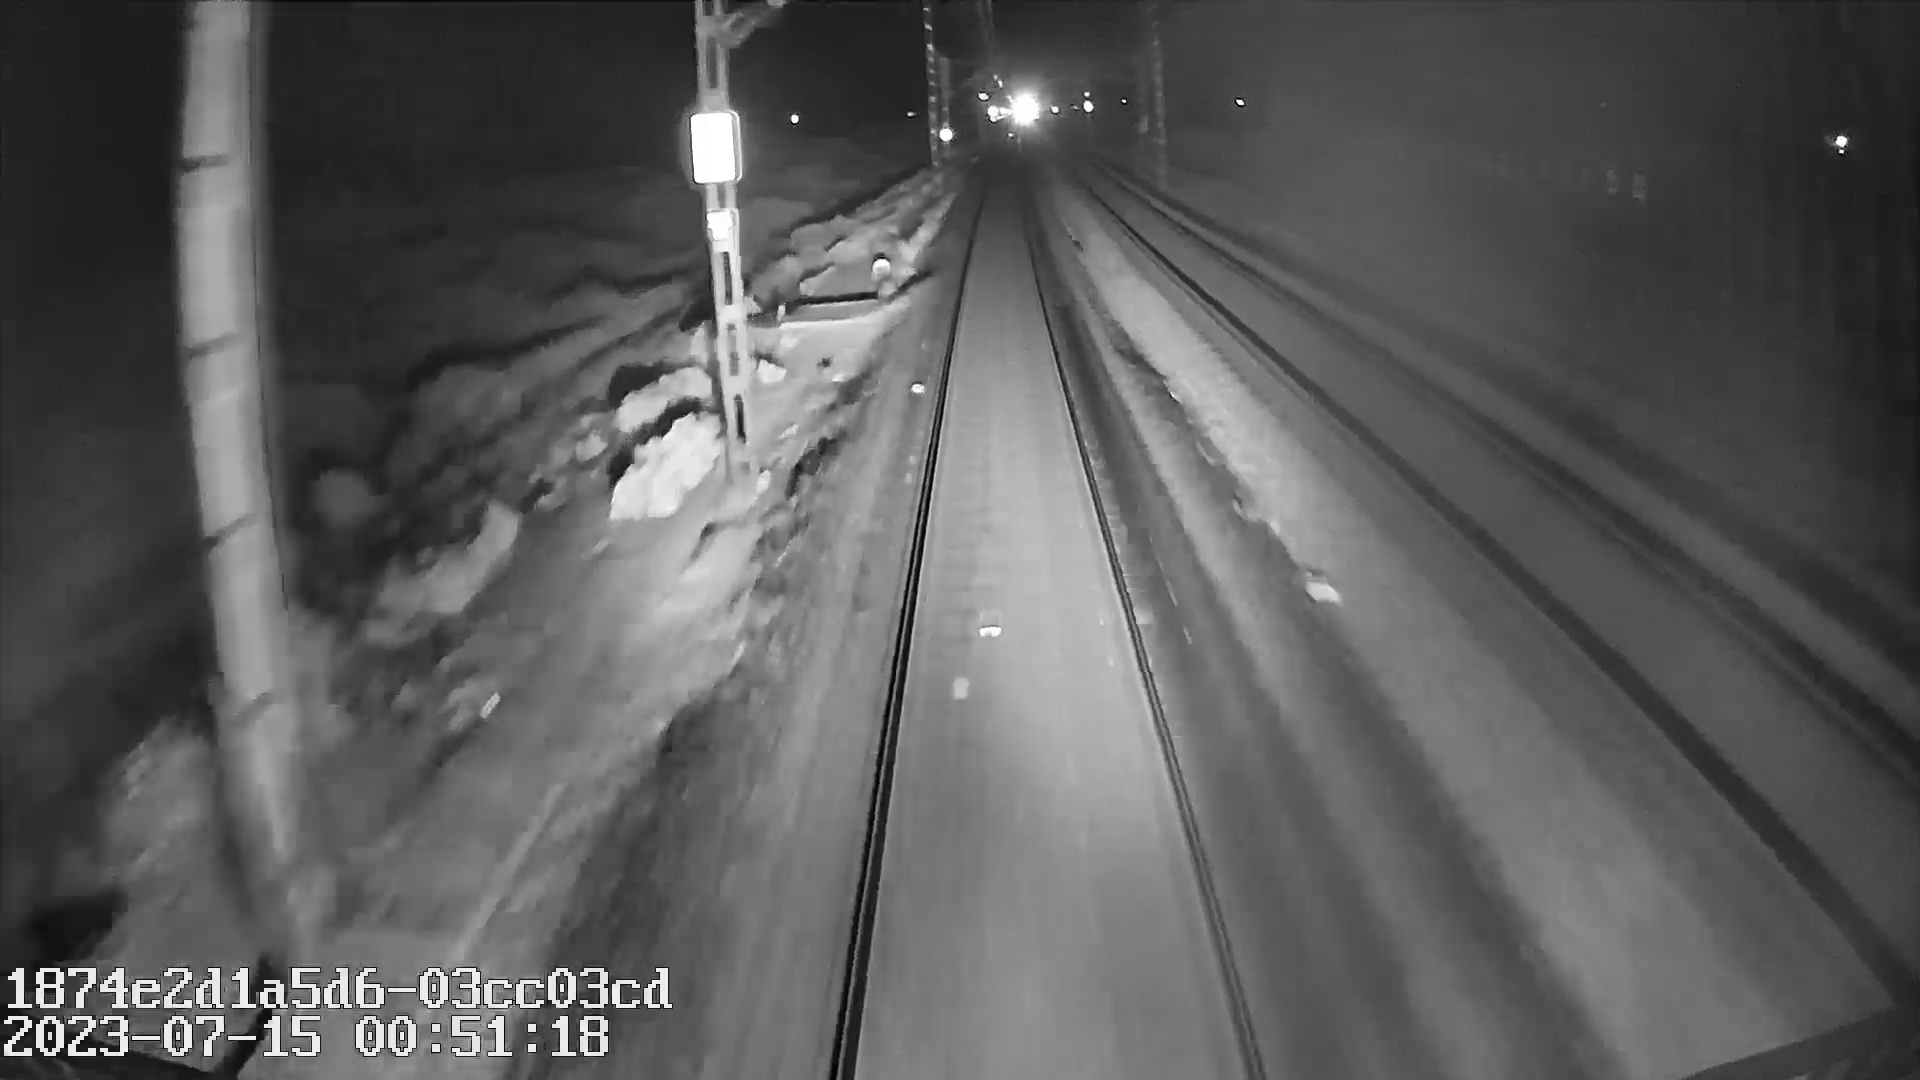track1: (848, 193, 1246, 1042)
track2: (1097, 194, 1907, 873)
